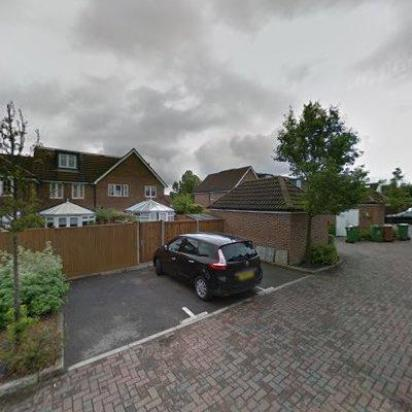stationary-car-offstreet: (152, 232, 264, 302), (386, 209, 412, 226)
